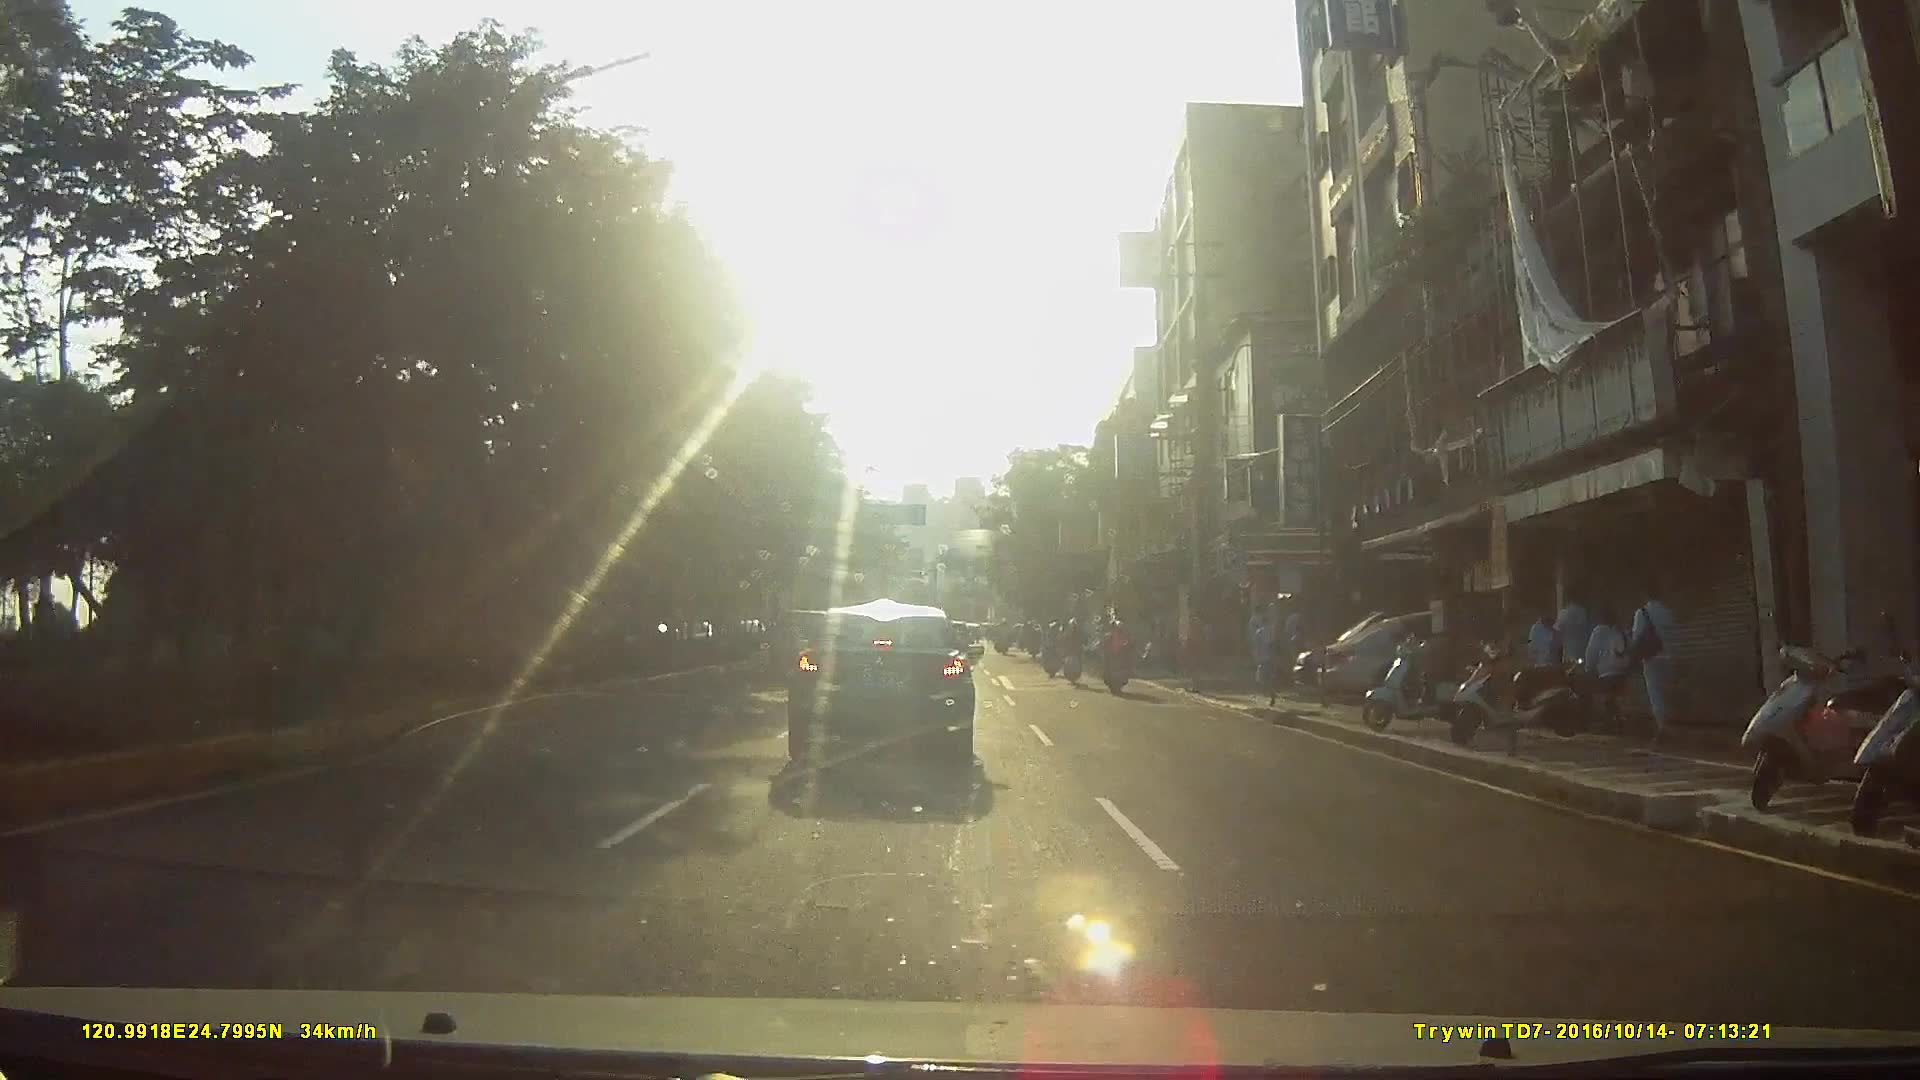pedestrian: (1629, 575, 1679, 734), (1581, 605, 1637, 727), (1550, 581, 1595, 708), (1249, 605, 1281, 702)
rider: (1102, 615, 1138, 694), (1060, 616, 1088, 685), (1040, 619, 1066, 680)
vehicle: (778, 594, 995, 787), (1319, 598, 1594, 706)
